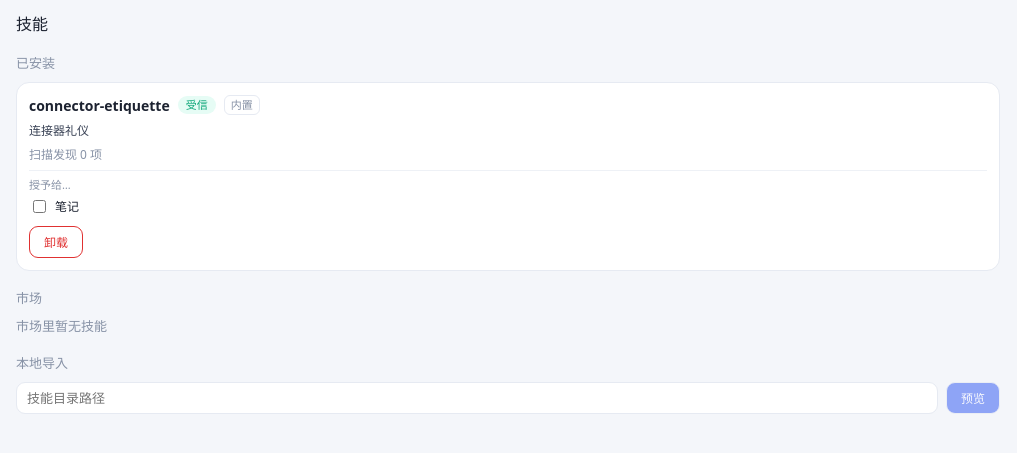
Test case: 授予失败时原样显示后端错误
Check: the text "connector-etiquette" is shown, box [29,94,170,116]
Click the checkbox named "授予给笔记" at {"x": 40, "y": 206}, box [33,200,46,213]
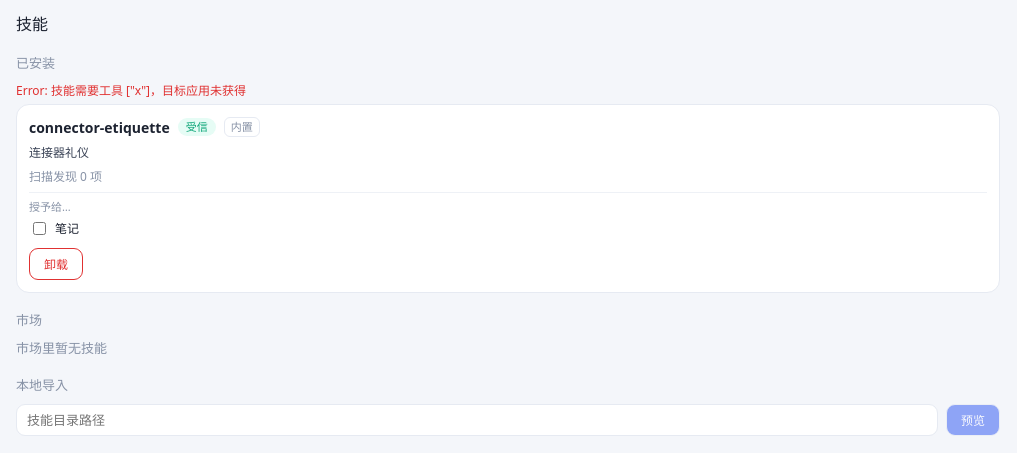
Check: the text "Error: 技能需要工具 [\"x\"]，目标应用未获得" is shown, box [16,82,246,98]
